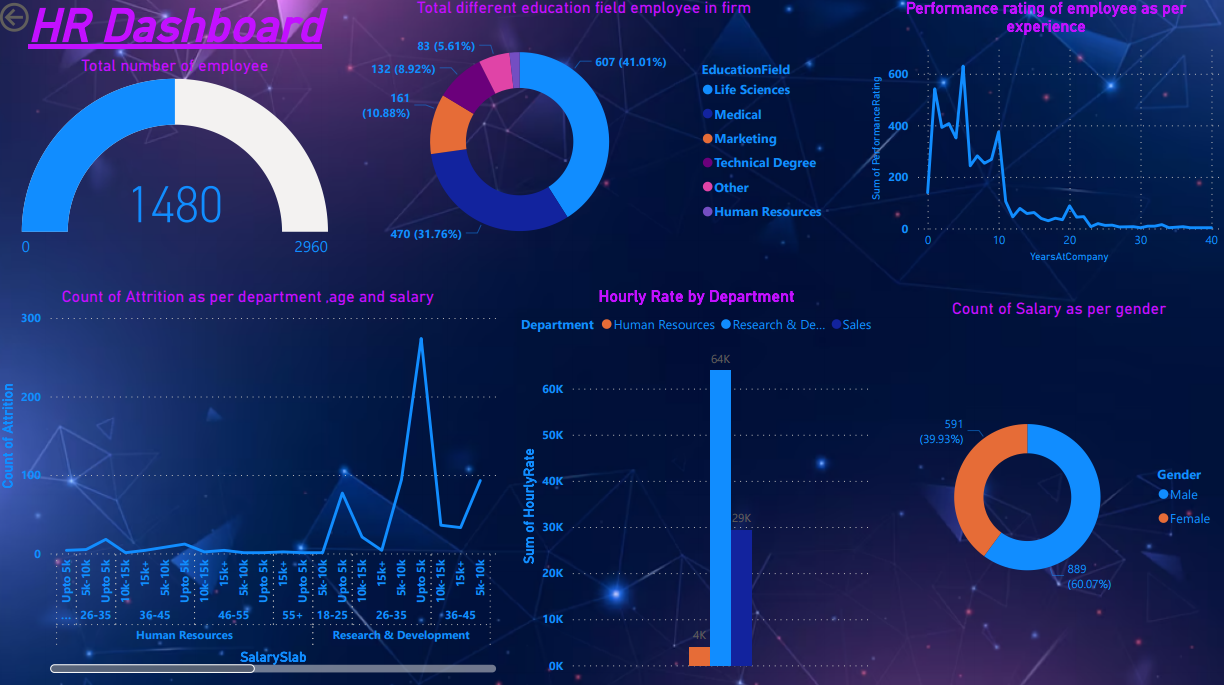

The page's visual inventory and layout, read from the dashboard file:
{"tool":"powerbi","page":{"name":"Page 1","canvas":[1280,720],"ordinal":0},"visuals":[{"type":"textbox","title":"HR Dashboard","box":[24.3,0,327.1,60],"z":0},{"type":"gauge","title":"Total number of employee","fields":{"Y":["Sum(HR_Analytics.EmployeeCount)"]},"box":[0,60,374.3,220],"z":1000},{"type":"donutChart","title":"Total different education field employee in firm ","fields":{"Category":["HR_Analytics.EducationField"],"Y":["CountNonNull(HR_Analytics.EmpID)"]},"box":[351.4,0,522.9,280],"z":2000},{"type":"clusteredColumnChart","title":"Hourly Rate by Department","fields":{"Y":["Sum(HR_Analytics.HourlyRate)"],"Series":["HR_Analytics.Department"]},"box":[541.5,300.3,375.1,407.6],"z":3000},{"type":"actionButton","box":[0,0,100.1,39.8],"z":4000},{"type":"lineChart","title":"Count of Attrition as per department ,age and salary ","fields":{"Y":["CountNonNull(HR_Analytics.Attrition)"],"Category":["HR_Analytics.Department","HR_Analytics.AgeGroup","HR_Analytics.SalarySlab"]},"box":[0,300,525.7,407.1],"z":5000},{"type":"donutChart","title":"Count of Salary as per gender","fields":{"Category":["HR_Analytics.Gender"],"Y":["CountNonNull(HR_Analytics.SalarySlab)"]},"box":[932.9,312.9,347.1,394.3],"z":6000},{"type":"lineChart","title":"Performance rating of employee as per experience","fields":{"Category":["HR_Analytics.YearsAtCompany"],"Y":["Sum(HR_Analytics.PerformanceRating)"]},"box":[905.7,0,374.3,280],"z":7000}]}

Visuals, with their boxes in screenshot pixels (x1, y1, x2, y2), scaled from the page's 1280x720 canvas onto the 1224x685 screenshot:
"HR Dashboard" textbox: 23 0 336 57
"Total number of employee" gauge: 0 57 358 266
"Total different education field employee in firm " donutChart: 336 0 836 266
"Hourly Rate by Department" clusteredColumnChart: 518 286 876 673
actionButton: 0 0 96 38
"Count of Attrition as per department ,age and salary " lineChart: 0 285 503 673
"Count of Salary as per gender" donutChart: 892 298 1223 673
"Performance rating of employee as per experience" lineChart: 866 0 1223 266
